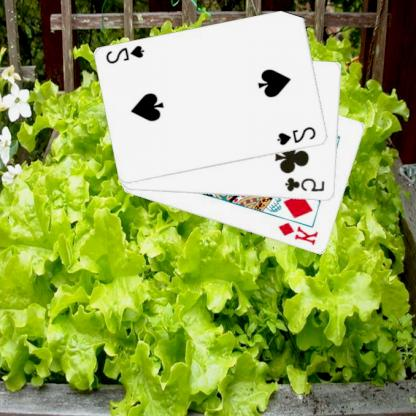2S: (105, 42, 148, 66), (276, 124, 319, 147)
5C: (284, 175, 328, 194)
KD: (276, 219, 322, 247)
